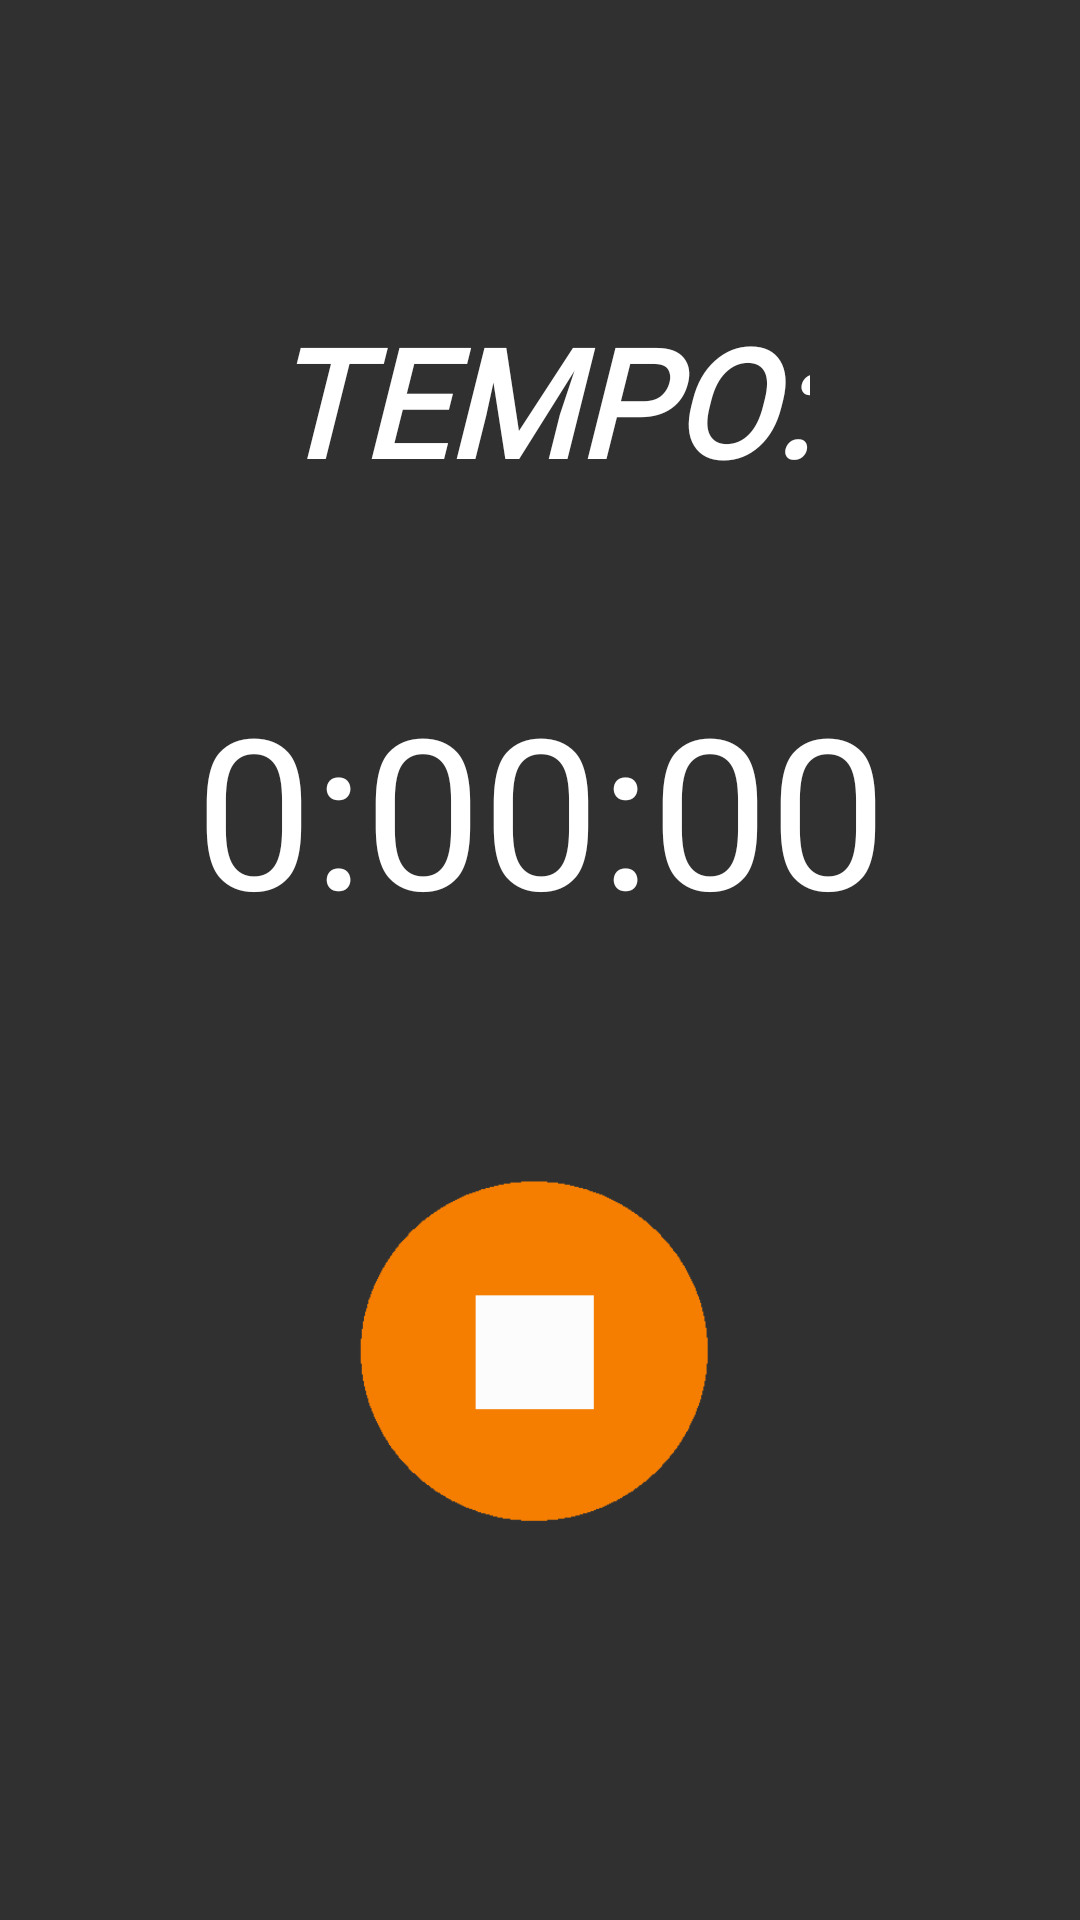

Locate icon controls on the screen. Image size 1080px x 1920px, boxes as (x1, y1, x2, y2).
stop: (360, 1181, 708, 1521)
